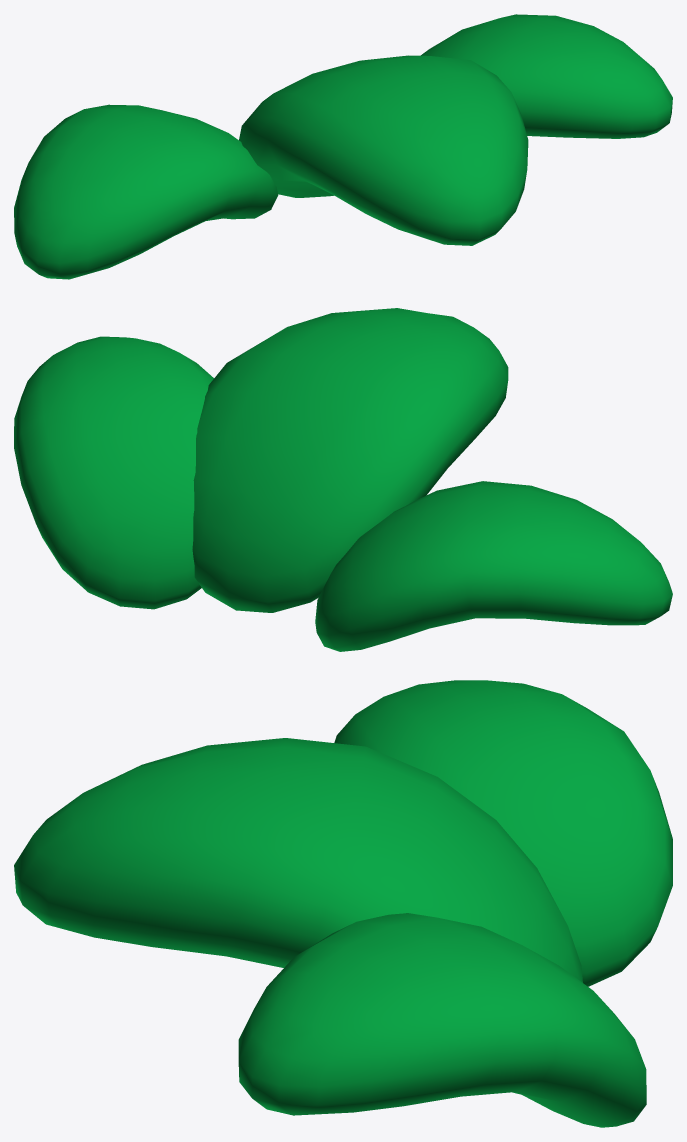
File: Town_11_Grass_2.glb
The picture shows the model from 3 angles, top to bottom: view 1: azimuth 30°, elevation 25°; view 2: azimuth 150°, elevation 25°; view 3: azimuth 270°, elevation 25°; orthographic projection. The views are drawn at different scales.
Parts seen in each view (by area): view 1: Town_11_Grass_2; view 2: Town_11_Grass_2; view 3: Town_11_Grass_2.
Part boxes in pixels (x1,y1,x2,y2): Town_11_Grass_2: (14, 14, 672, 279); Town_11_Grass_2: (14, 308, 672, 651); Town_11_Grass_2: (14, 680, 672, 1127).
Size of the model in its own units: 0.6668 by 0.2066 by 0.4386.
1 material, 1 textured.
